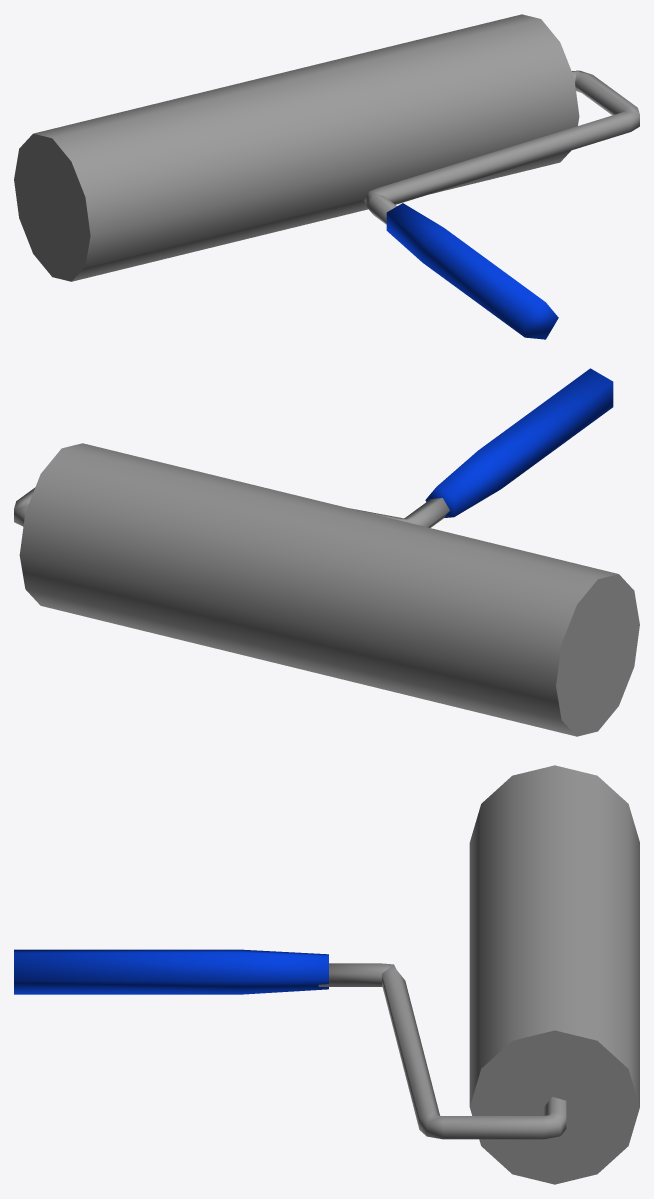
File: gunshua.FBX
The picture shows the model from 3 angles, top to bottom: view 1: azimuth 30°, elevation 25°; view 2: azimuth 150°, elevation 25°; view 3: azimuth 270°, elevation 25°; orthographic projection. The views are drawn at different scales.
Parts seen in each view (by area): view 1: gunshua01, gunshua02; view 2: gunshua01, gunshua02; view 3: gunshua01, gunshua02.
Boxes of the visible parts, left/top/right/bottom form: gunshua01: left=14, top=14, right=579, bottom=281; gunshua02: left=364, top=70, right=639, bottom=339; gunshua01: left=19, top=443, right=639, bottom=736; gunshua02: left=14, top=368, right=613, bottom=527; gunshua01: left=469, top=765, right=639, bottom=1184; gunshua02: left=14, top=949, right=566, bottom=1139.
Size of the model in its own units: 126 by 31.24 by 115.
